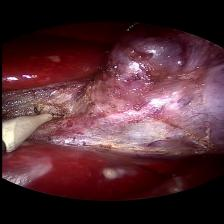Hook: (0, 106, 67, 155)
